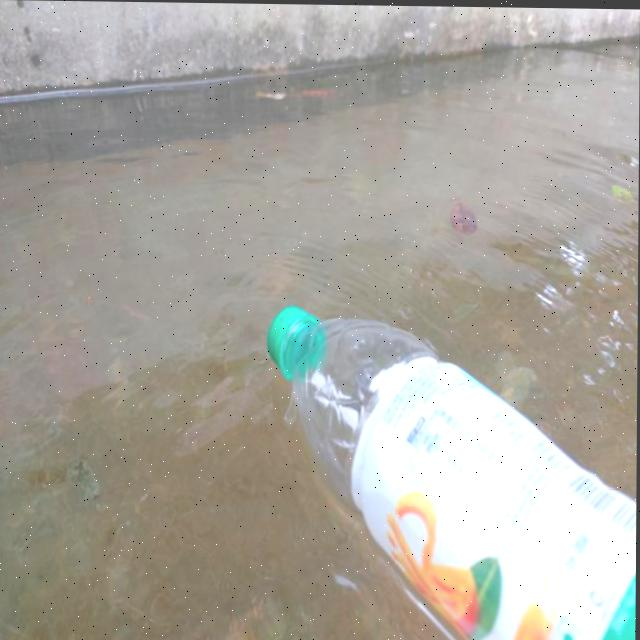leaf: (255, 69, 353, 108), (438, 192, 486, 235)
waterbottle: (246, 294, 638, 640)
